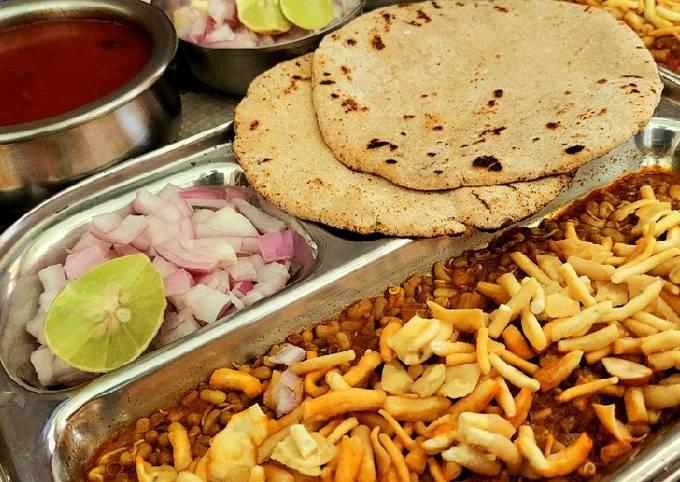bhakri: (312, 2, 665, 179), (230, 54, 573, 233)
salad: (93, 195, 292, 299)
